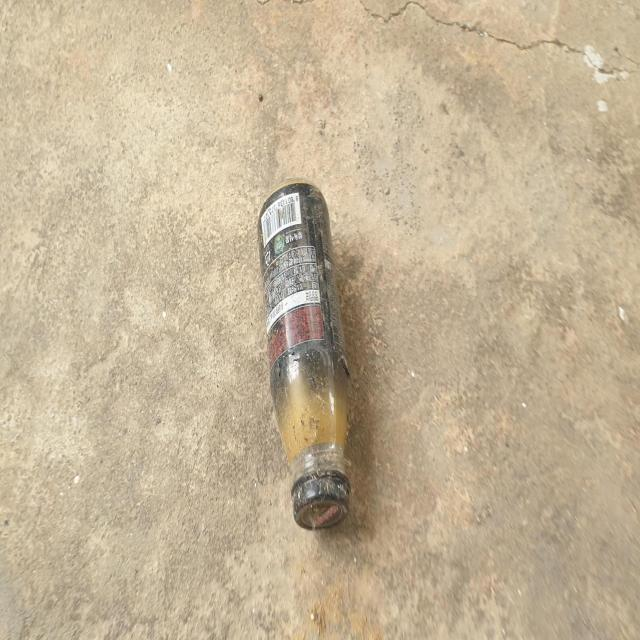glass: (258, 178, 350, 530)
